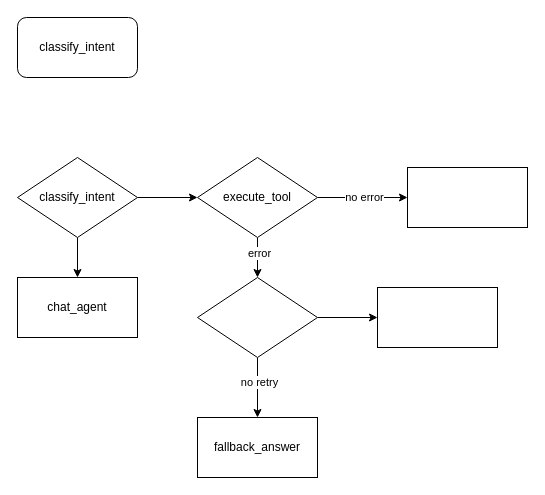
This 545x495 diagram has some shape labels left out. Here are the shapes that lost their labels. From the top down, the box of each, then its label:
(406, 166, 528, 228): finalize
(376, 286, 498, 348): retry_handler
